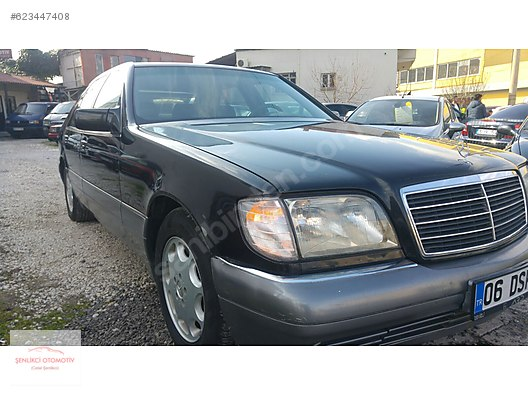m: (51, 58, 528, 343)
